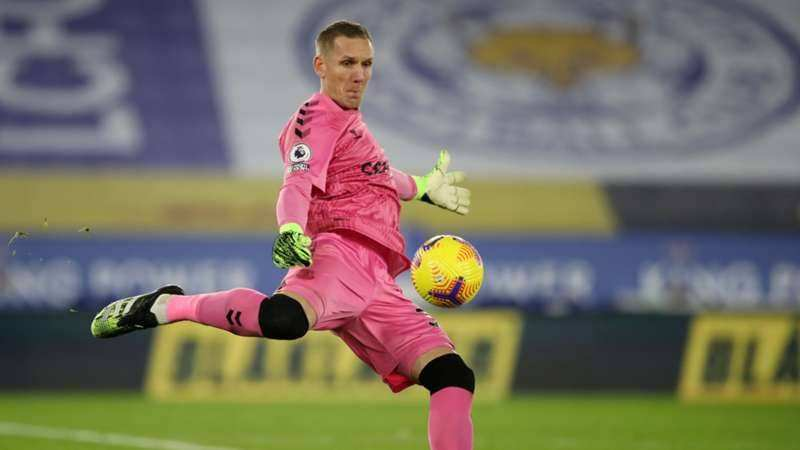no-phone: (418, 147, 477, 217)
